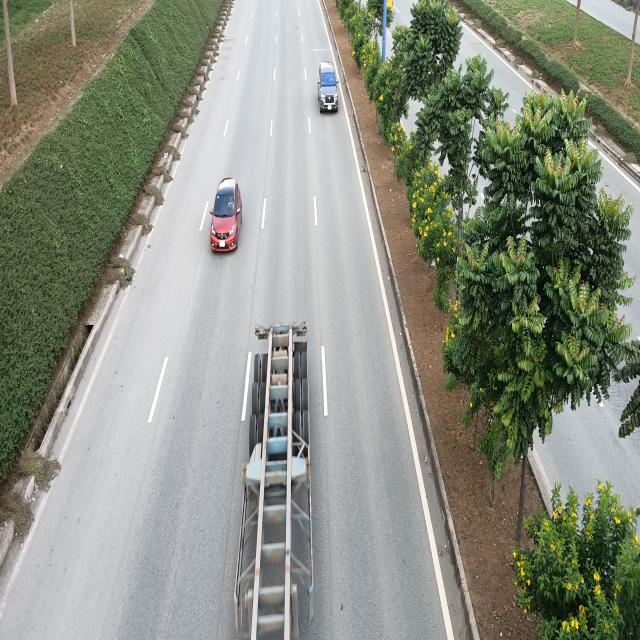car: (209, 179, 242, 256), (317, 63, 338, 113)
container: (235, 316, 315, 634)
